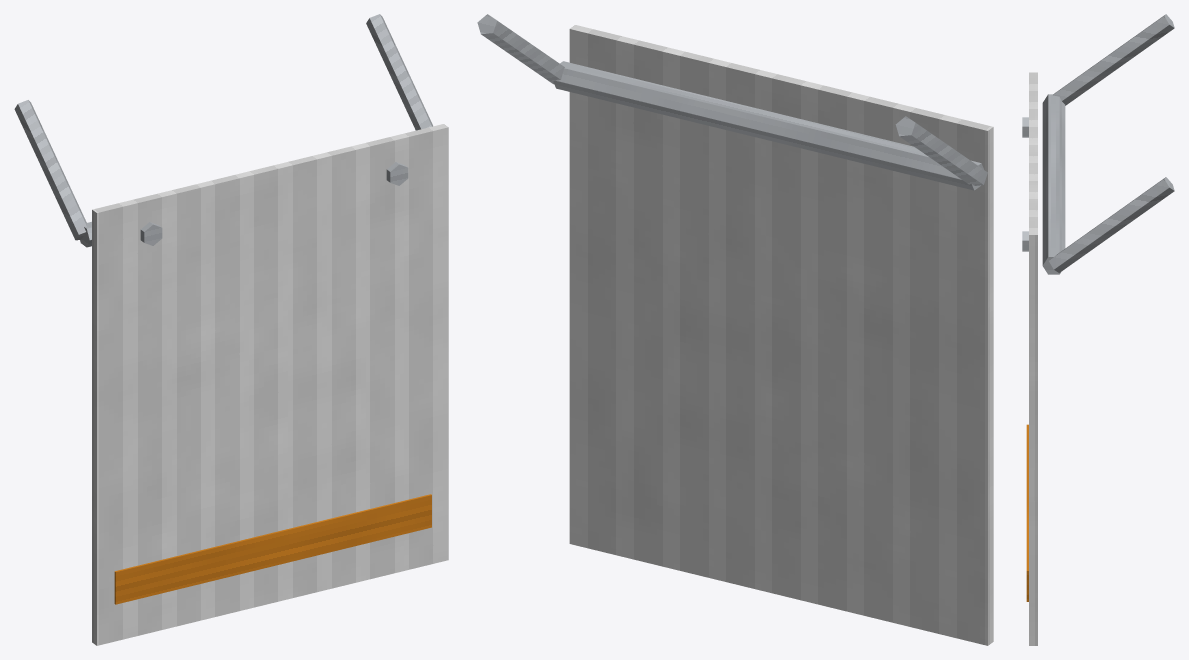
The model's file is para_barro_n3.glb.
3 views of the same model, side by side, from view 1: azimuth 30°, elevation 25°; view 2: azimuth 150°, elevation 25°; view 3: azimuth 270°, elevation 25° (orthographic). The views are drawn at different scales.
Parts seen in each view (by area): view 1: para_barro_n3; view 2: para_barro_n3; view 3: para_barro_n3.
Part boxes in pixels (x1,y1,x2,y2): para_barro_n3: (14, 14, 448, 645); para_barro_n3: (477, 14, 993, 645); para_barro_n3: (1022, 14, 1174, 645).
Bounding box in the file's own units: 0.3545 × 0.456 × 0.1347.
3 materials, 3 textured.
